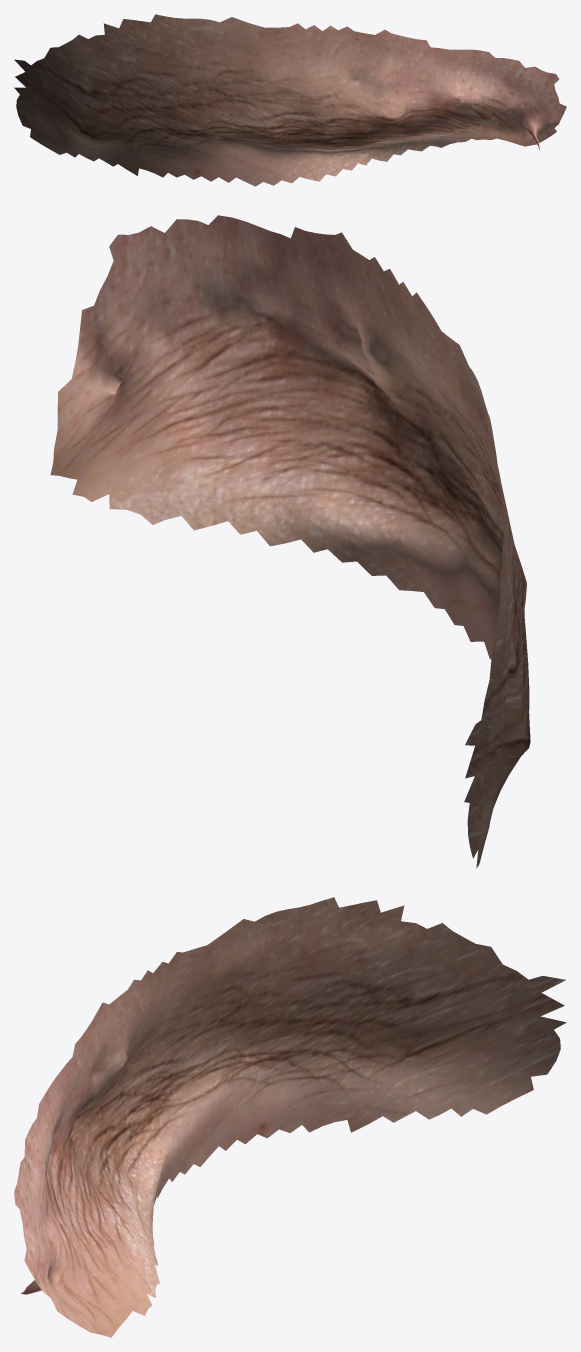
File: eyebrow03right.obj
3 views of the same model, one above another, from view 1: azimuth 30°, elevation 25°; view 2: azimuth 150°, elevation 25°; view 3: azimuth 270°, elevation 25° (orthographic). The views are drawn at different scales.
Parts seen in each view (by area): view 1: default; view 2: default; view 3: default.
Boxes of the visible parts, bbox=[...] form: default: bbox=[14, 14, 566, 186]; default: bbox=[50, 215, 530, 867]; default: bbox=[14, 897, 566, 1337].
Bounding box in the file's own units: 45.12 × 20.22 × 38.61.
1 material, 1 textured.
